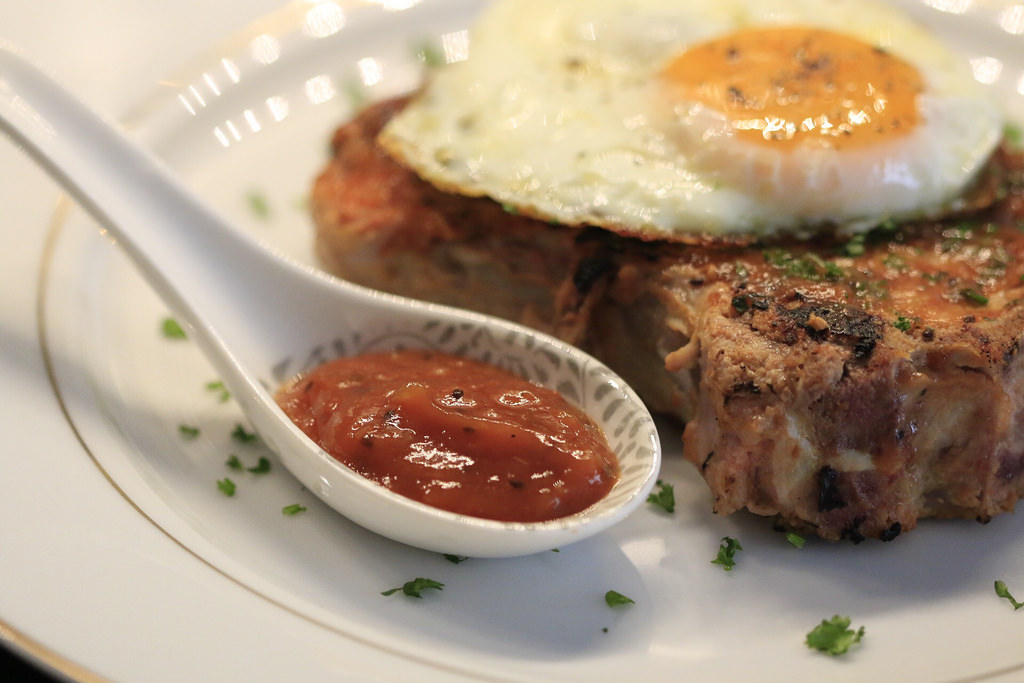fried egg: (390, 6, 1013, 238)
